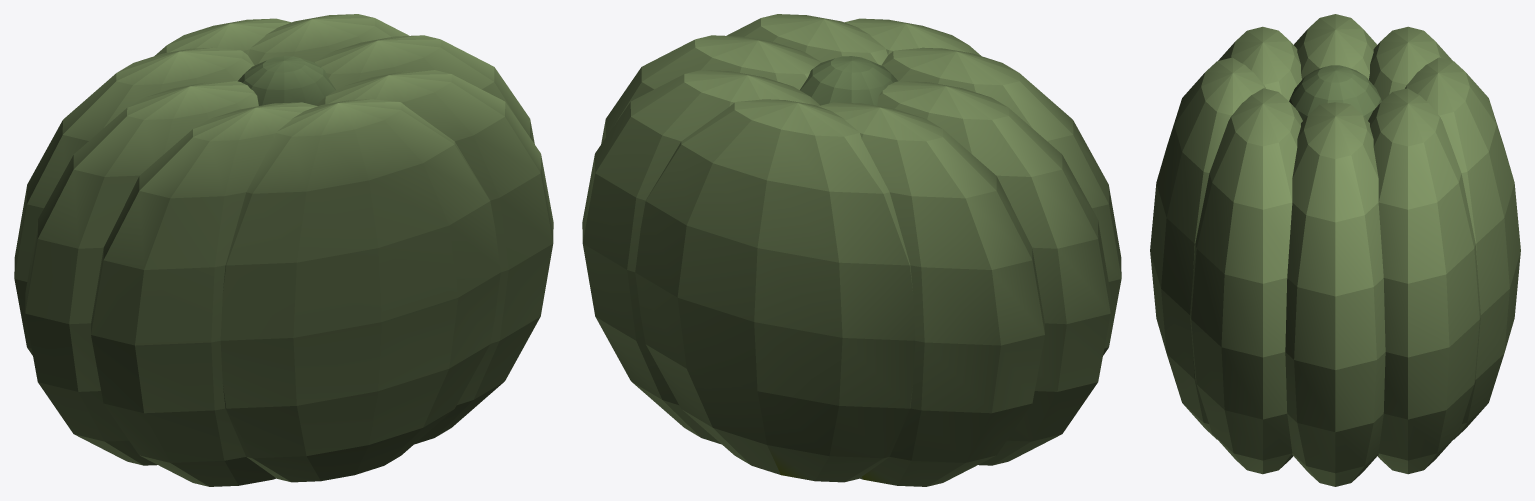
Rendered from crop_cabbage.glb.
3 renders of one model, left to right at view 1: azimuth 30°, elevation 25°; view 2: azimuth 150°, elevation 25°; view 3: azimuth 270°, elevation 25°, orthographic. The views are drawn at different scales.
Visible parts, largest first — view 1: outer.006, outer.005, outer.004, outer.007, outer.003, outer, outer.001, ball.002, outer.002; view 2: outer.002, outer.003, outer.004, outer.001, outer.005, outer, outer.007, ball.002, outer.006; view 3: outer, outer.001, outer.007, outer.002, outer.006, outer.004, outer.003, outer.005, ball.002.
Boxes of the visible parts, box(x1,y1,x2,y2) form: outer.006: box(220, 99, 500, 482); outer.005: box(91, 102, 317, 486); outer.004: box(25, 81, 258, 465); outer.007: box(315, 70, 553, 444); outer.003: box(14, 47, 254, 355); outer: box(314, 35, 534, 144); outer.001: box(248, 14, 409, 65); ball.002: box(238, 56, 335, 105); outer.002: box(155, 18, 290, 55); outer.002: box(635, 99, 915, 482); outer.003: box(818, 102, 1044, 486); outer.004: box(877, 81, 1110, 465); outer.001: box(582, 70, 820, 444); outer.005: box(881, 47, 1121, 355); outer: box(601, 35, 821, 144); outer.007: box(726, 14, 887, 65); ball.002: box(800, 56, 897, 105); outer.006: box(845, 18, 980, 55); outer: box(1285, 102, 1385, 486); outer.001: box(1368, 88, 1480, 474); outer.007: box(1190, 88, 1302, 474); outer.002: box(1405, 57, 1520, 439); outer.006: box(1150, 57, 1265, 439); outer.004: box(1294, 14, 1376, 79); outer.003: box(1369, 26, 1452, 100); outer.005: box(1218, 26, 1301, 100); ball.002: box(1289, 65, 1381, 120).
Size of the model in its own units: 0.828 by 0.576 by 0.542.
